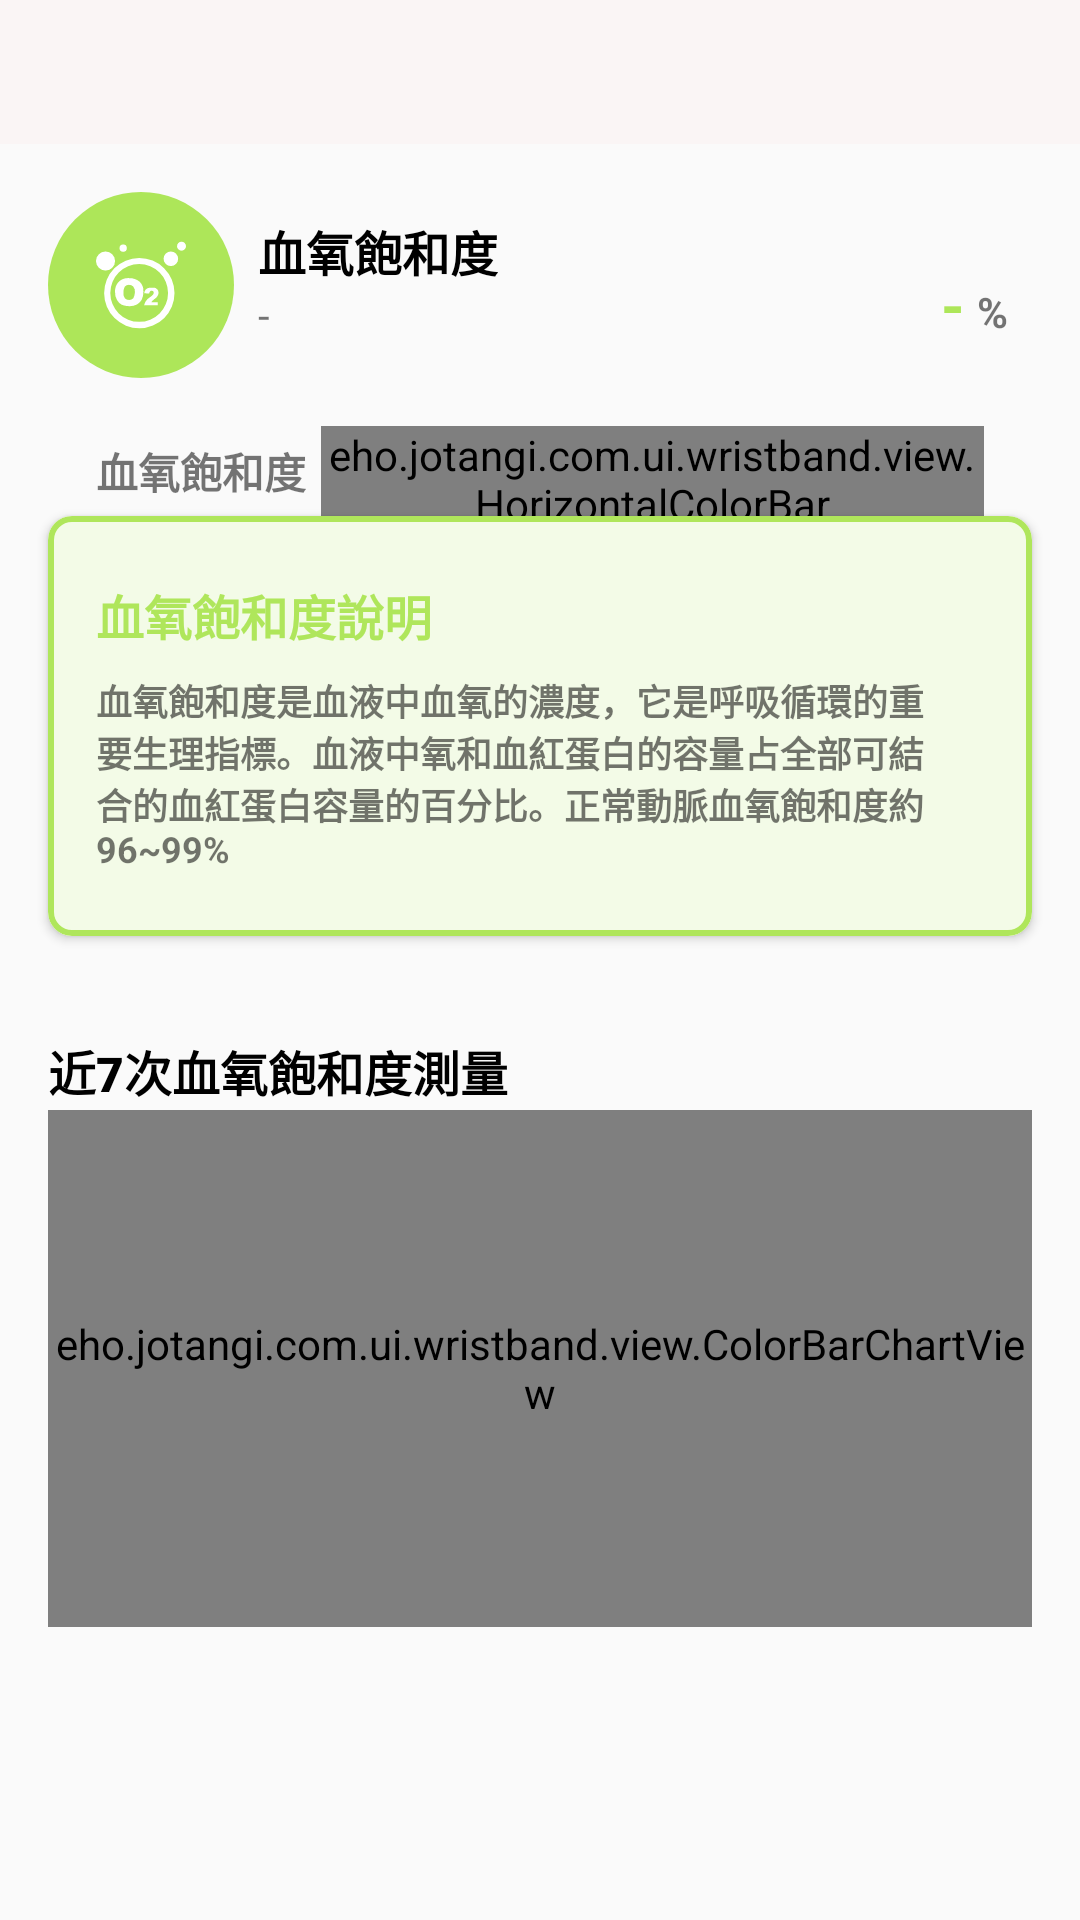

Screen size 1080 x 1920. Icon name, then its box in pixels as (x1,y1,x2,y2):
oxygen: (96,241,186,329)
